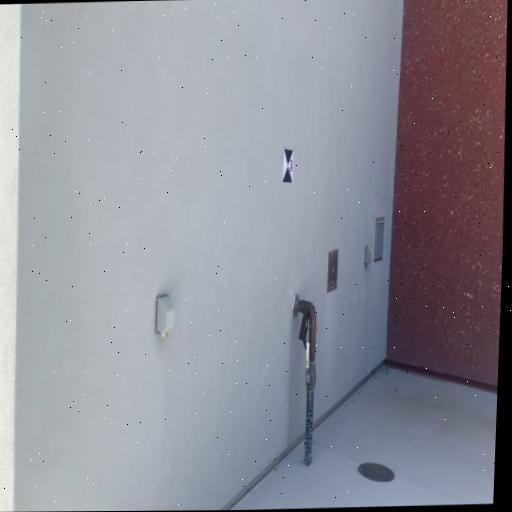target3: (282, 147, 294, 184)
